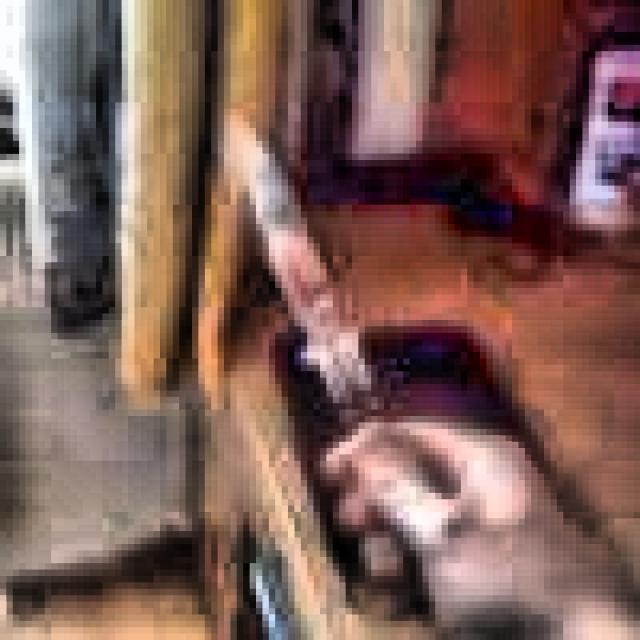knife: (229, 118, 438, 610)
